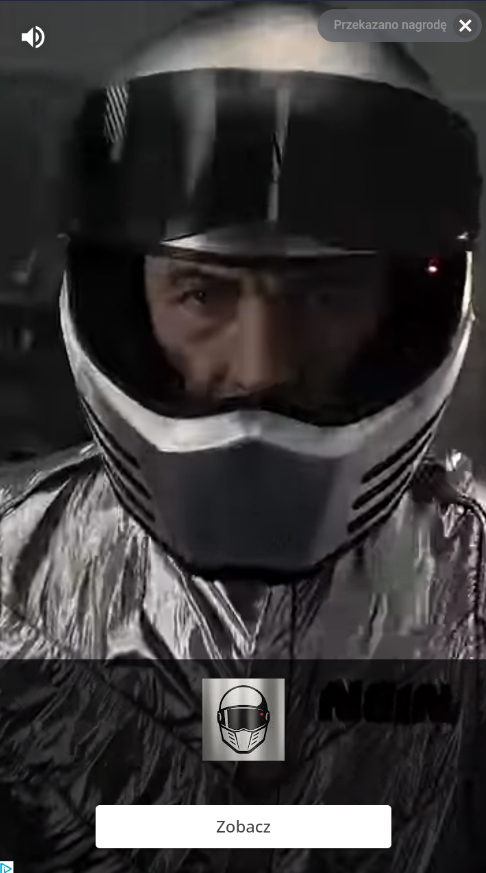close_button: (456, 13, 474, 36)
